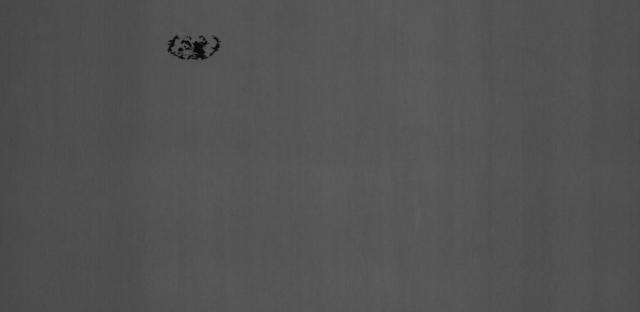inclusion: (152, 25, 226, 81)
